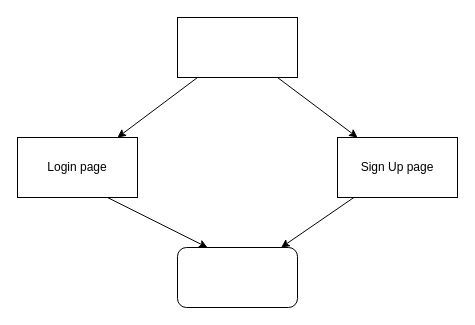
This 475x325 diagram has some shape labels left out. The shapes that lost their labels are listed below. From the top down, each one's centre as x and y in pixels, then its label:
At [237,47]: "Landing page".
At [237,277]: "DashBoard".
